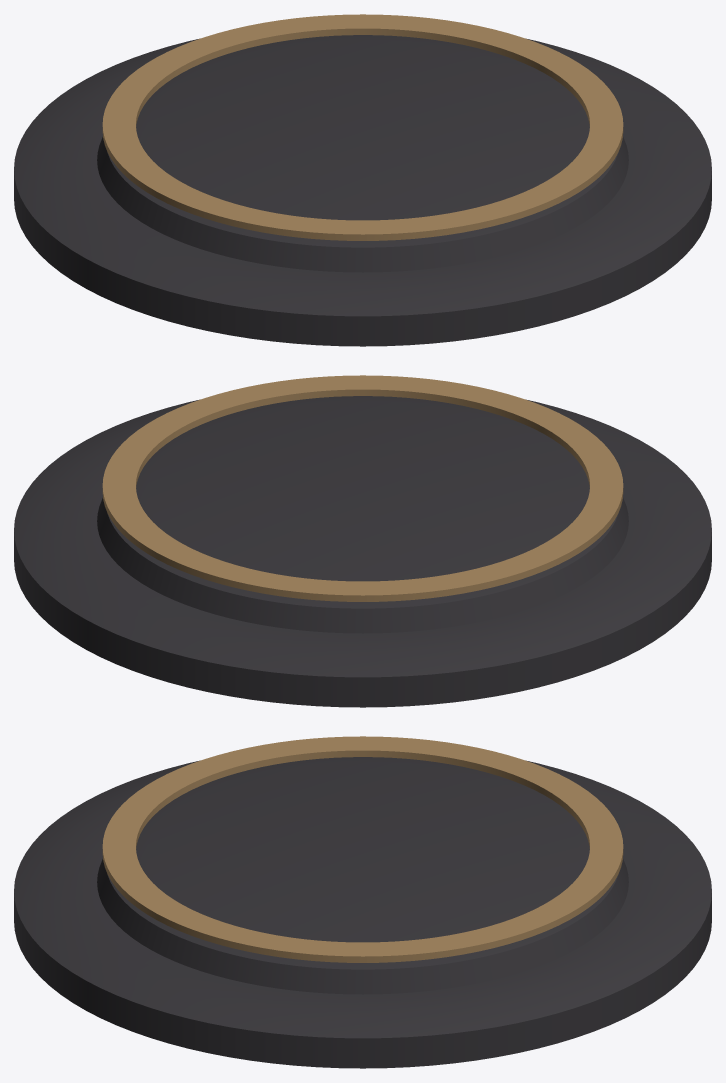
File: showcase.glb
3 renders of one model, top to bottom at view 1: azimuth 30°, elevation 25°; view 2: azimuth 150°, elevation 25°; view 3: azimuth 270°, elevation 25°, orthographic.
Visible parts, largest first — view 1: Display_Pedestal; view 2: Display_Pedestal; view 3: Display_Pedestal.
Part boxes in pixels (x1=…): Display_Pedestal: x1=14, y1=14, x2=711, y2=346; Display_Pedestal: x1=14, y1=375, x2=711, y2=707; Display_Pedestal: x1=14, y1=736, x2=711, y2=1068.
Size of the model in its own units: 0.252 by 0.0332 by 0.252.
